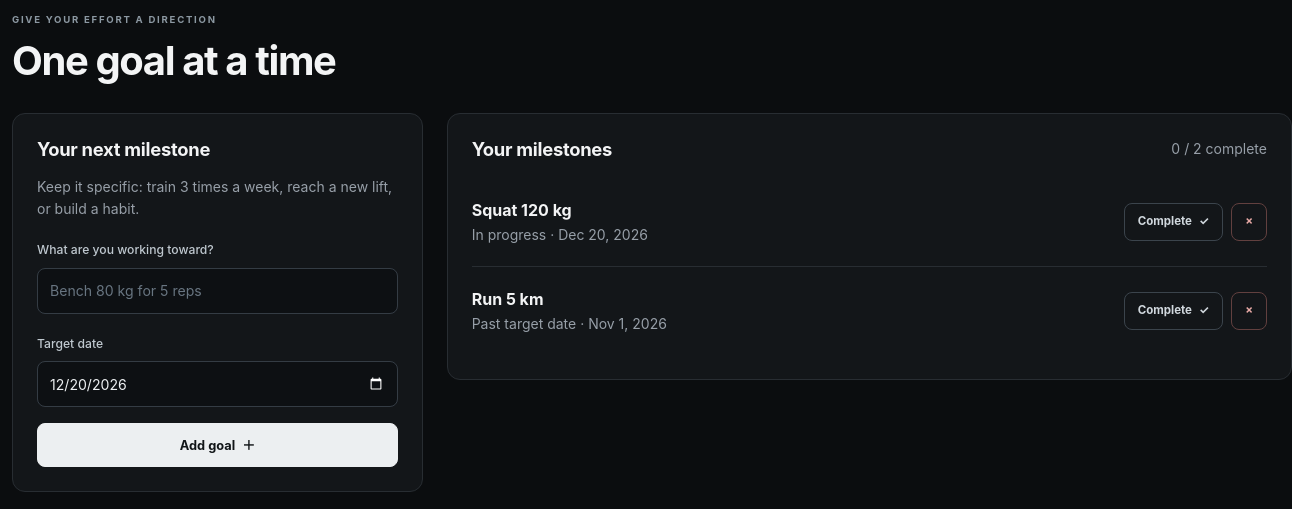
it: adds a goal, completes it and deletes another
This screenshot has width=1292, height=509.
Check: the text "0 / 2 complete" is shown, box top-left (1171, 138), bottom-right (1267, 160)
Check: the text "Past target date · Nov 1, 2026" is shown, box top-left (472, 312), bottom-right (667, 335)
Type "Bench 100 kg" into the field labelled "What are you working toward?" at (217, 291), box top-left (37, 268), bottom-right (398, 314)
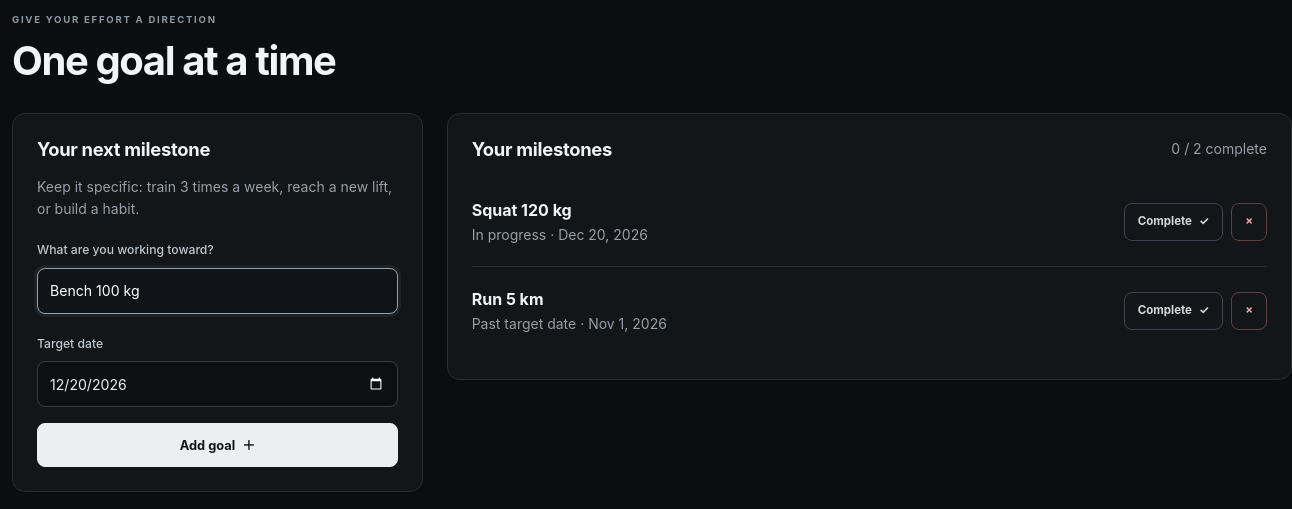
Click the button "Add goal ＋" at (217, 445), box top-left (37, 423), bottom-right (398, 467)
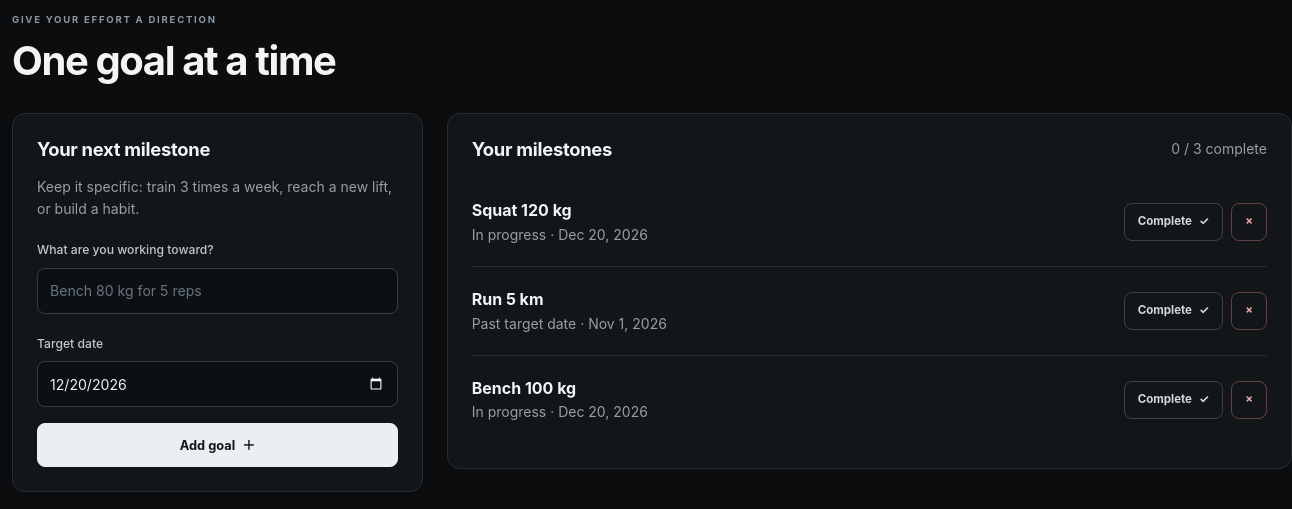
Check: the text "Bench 100 kg" is shown, box top-left (472, 378), bottom-right (576, 398)
Check: the field labelled "What are you working toward?" is empty, box top-left (37, 268), bottom-right (398, 314)
Click the button "Complete ✓" in the row of "Squat 120 kg" at (1173, 222), box top-left (1124, 203), bottom-right (1223, 241)
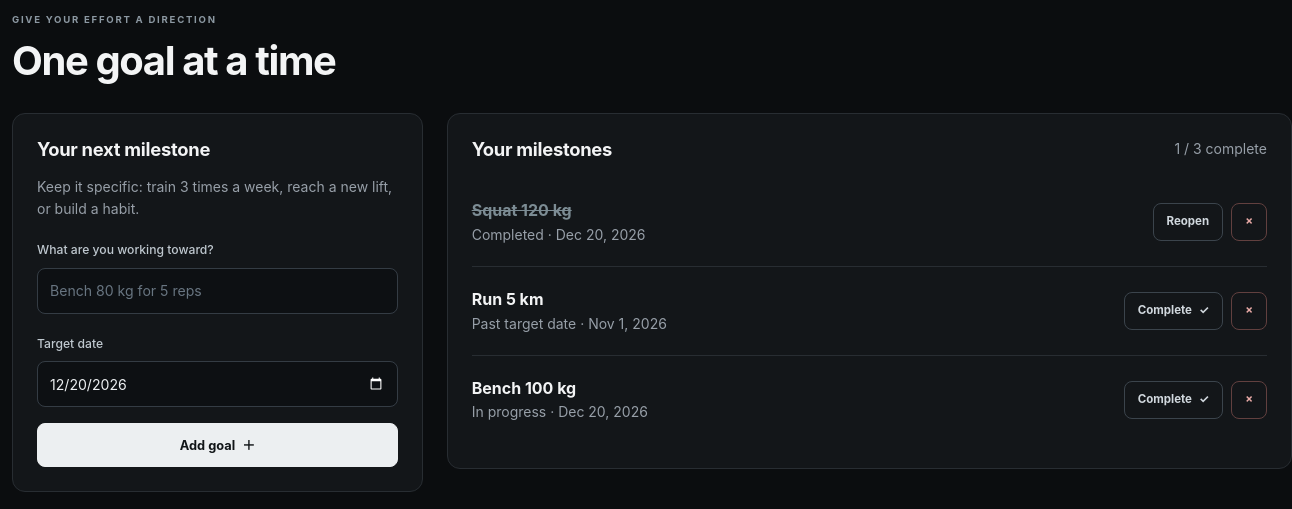
Check: the text "1 / 3 complete" is shown, box top-left (1174, 138), bottom-right (1267, 160)
Click the button named "Delete goal Run 5 km" at (1249, 311), box top-left (1231, 292), bottom-right (1267, 330)
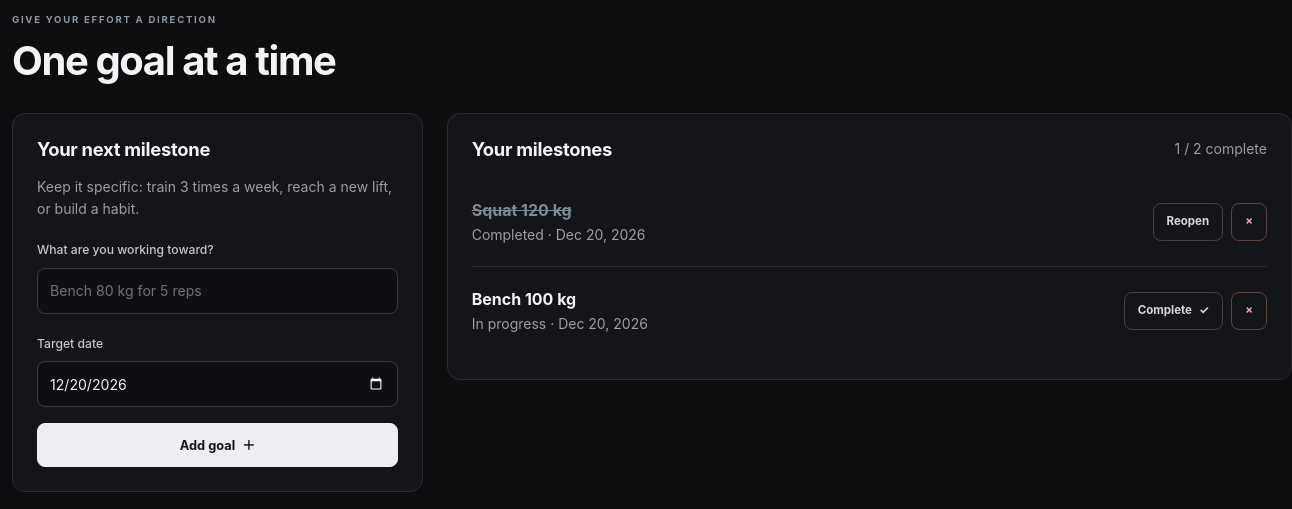
Check: the text "1 / 2 complete" is shown, box top-left (1174, 138), bottom-right (1267, 160)
